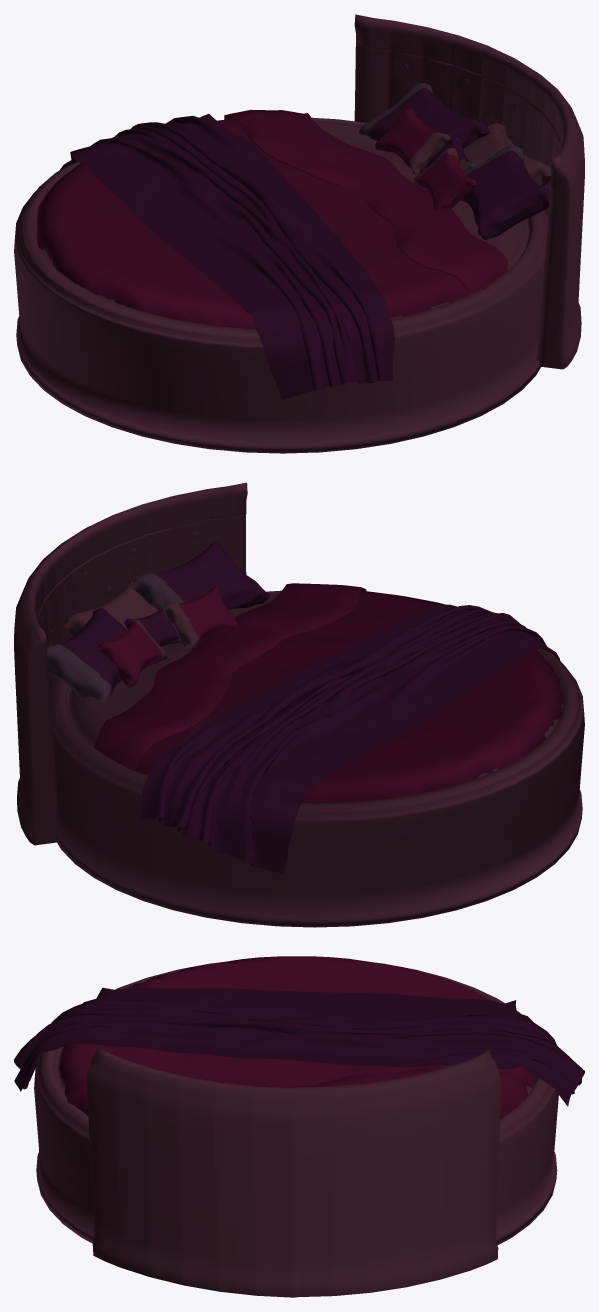
File: bed4.glb
3 renders of one model, top to bottom at view 1: azimuth 30°, elevation 25°; view 2: azimuth 150°, elevation 25°; view 3: azimuth 270°, elevation 25°, orthographic. The views are drawn at different scales.
Parts seen in each view (by area): view 1: Plane008_0; view 2: Plane008_0; view 3: Plane008_0.
Part boxes in pixels (x1,y1,x2,y2): Plane008_0: [14, 14, 584, 453]; Plane008_0: [14, 482, 584, 927]; Plane008_0: [14, 956, 584, 1297].
Bounding box in the file's own units: 3.89 × 1.62 × 3.98.
1 material, 1 textured.
